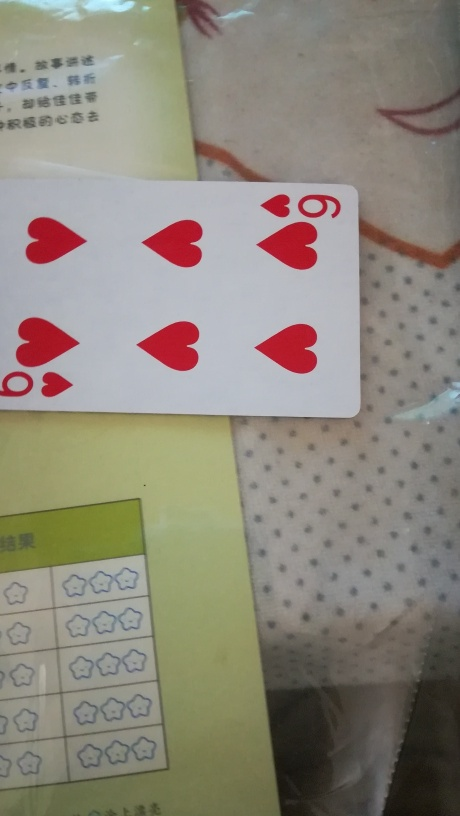hx 6: (5, 179, 362, 434)
